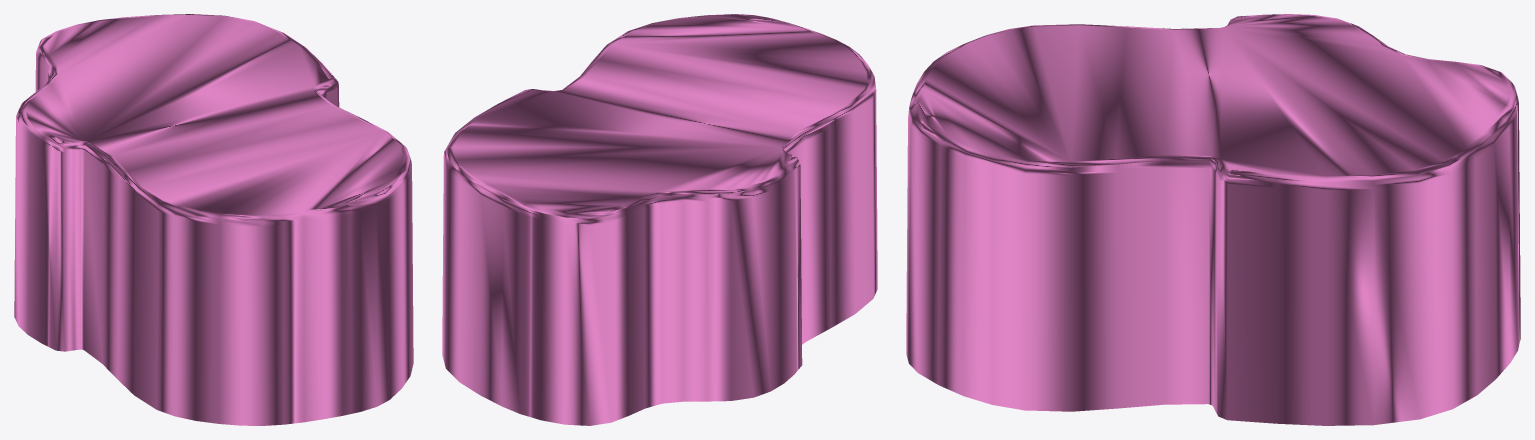
File: lorville_noflyzone_suburb_redout_12.glb
3 views of the same model, side by side, from view 1: azimuth 30°, elevation 25°; view 2: azimuth 150°, elevation 25°; view 3: azimuth 270°, elevation 25° (orthographic). The views are drawn at different scales.
Bounding box in the file's own units: 2386 × 1591 × 3620.
